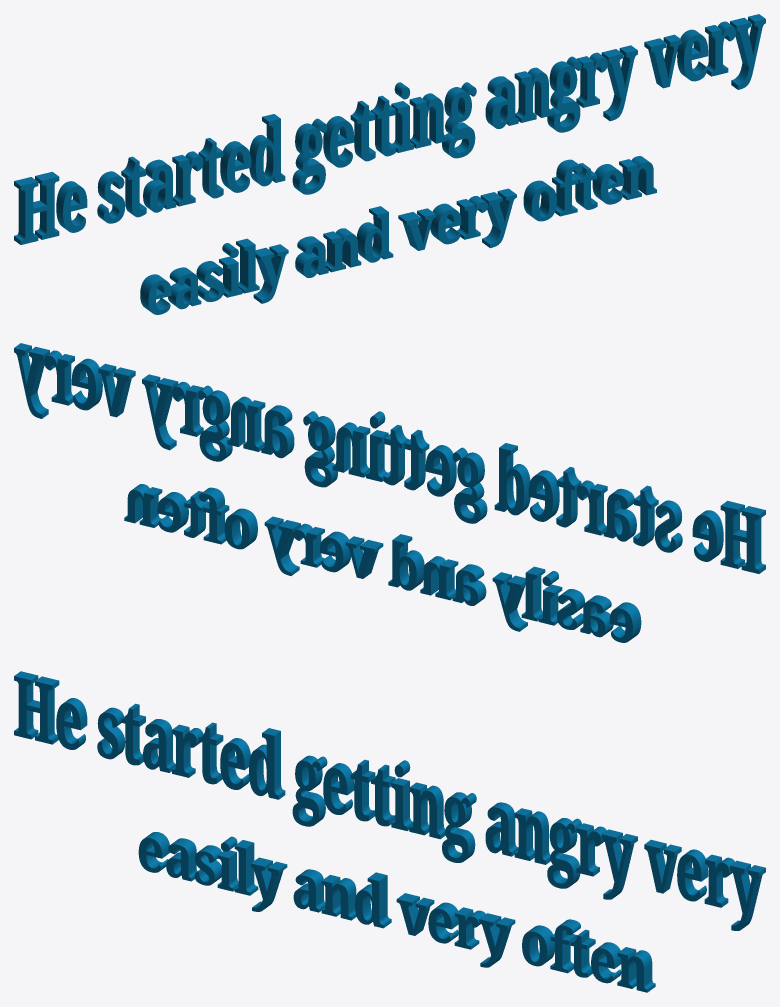
The model's file is tinker.obj.
3 views of the same model, one above another, from view 1: azimuth 30°, elevation 25°; view 2: azimuth 150°, elevation 25°; view 3: azimuth 330°, elevation 25° (orthographic).
Visible parts, largest first — view 1: obj_0; view 2: obj_0; view 3: obj_0.
Part boxes in pixels (left/top/right/bottom): obj_0: left=14, top=14, right=765, bottom=314; obj_0: left=14, top=343, right=765, bottom=642; obj_0: left=14, top=671, right=765, bottom=992.
Bounding box in the file's own units: 284 × 65.44 × 5.43.
